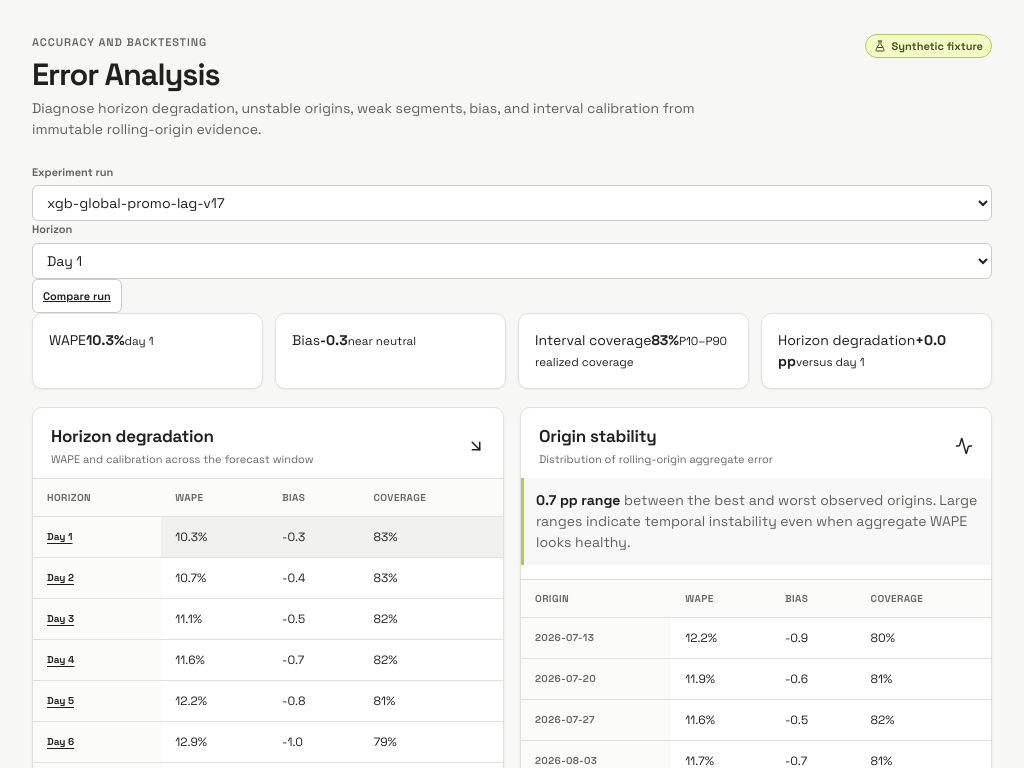
AccuracyPage › renders error diagnostics and preserves selected evidence in the URL
This screenshot has width=1024, height=768.
Expected: the heading "Error Analysis" is shown, [32,54,219,94]
Select "Day 7" in the dropdown labelled "Horizon". click: coordinates (512, 261)
box: [32,243,992,279]
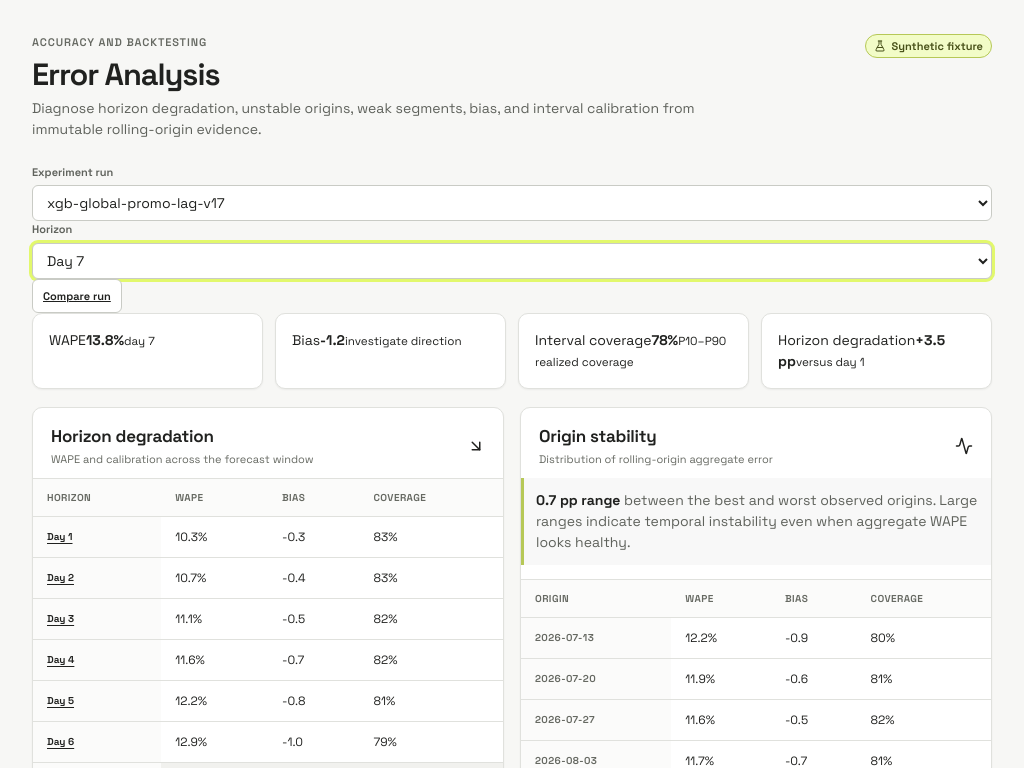
Expected: the text "13.8%" is shown, [86,331,124,349]
